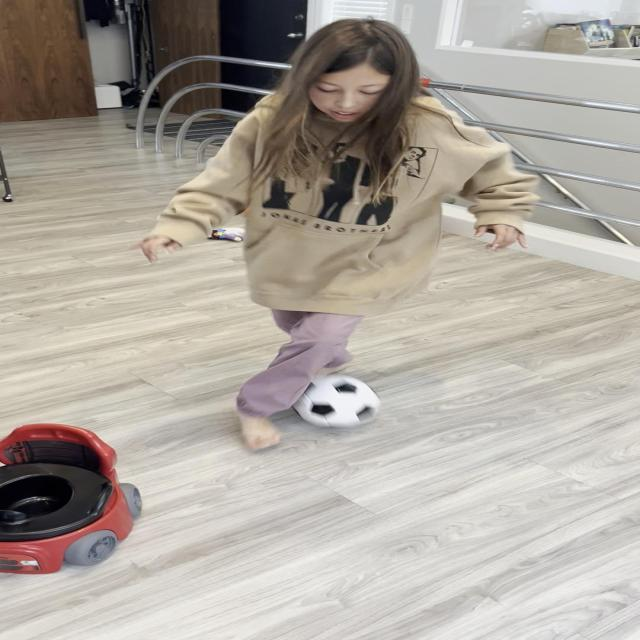Soccer Ball: (291, 375, 382, 428)
